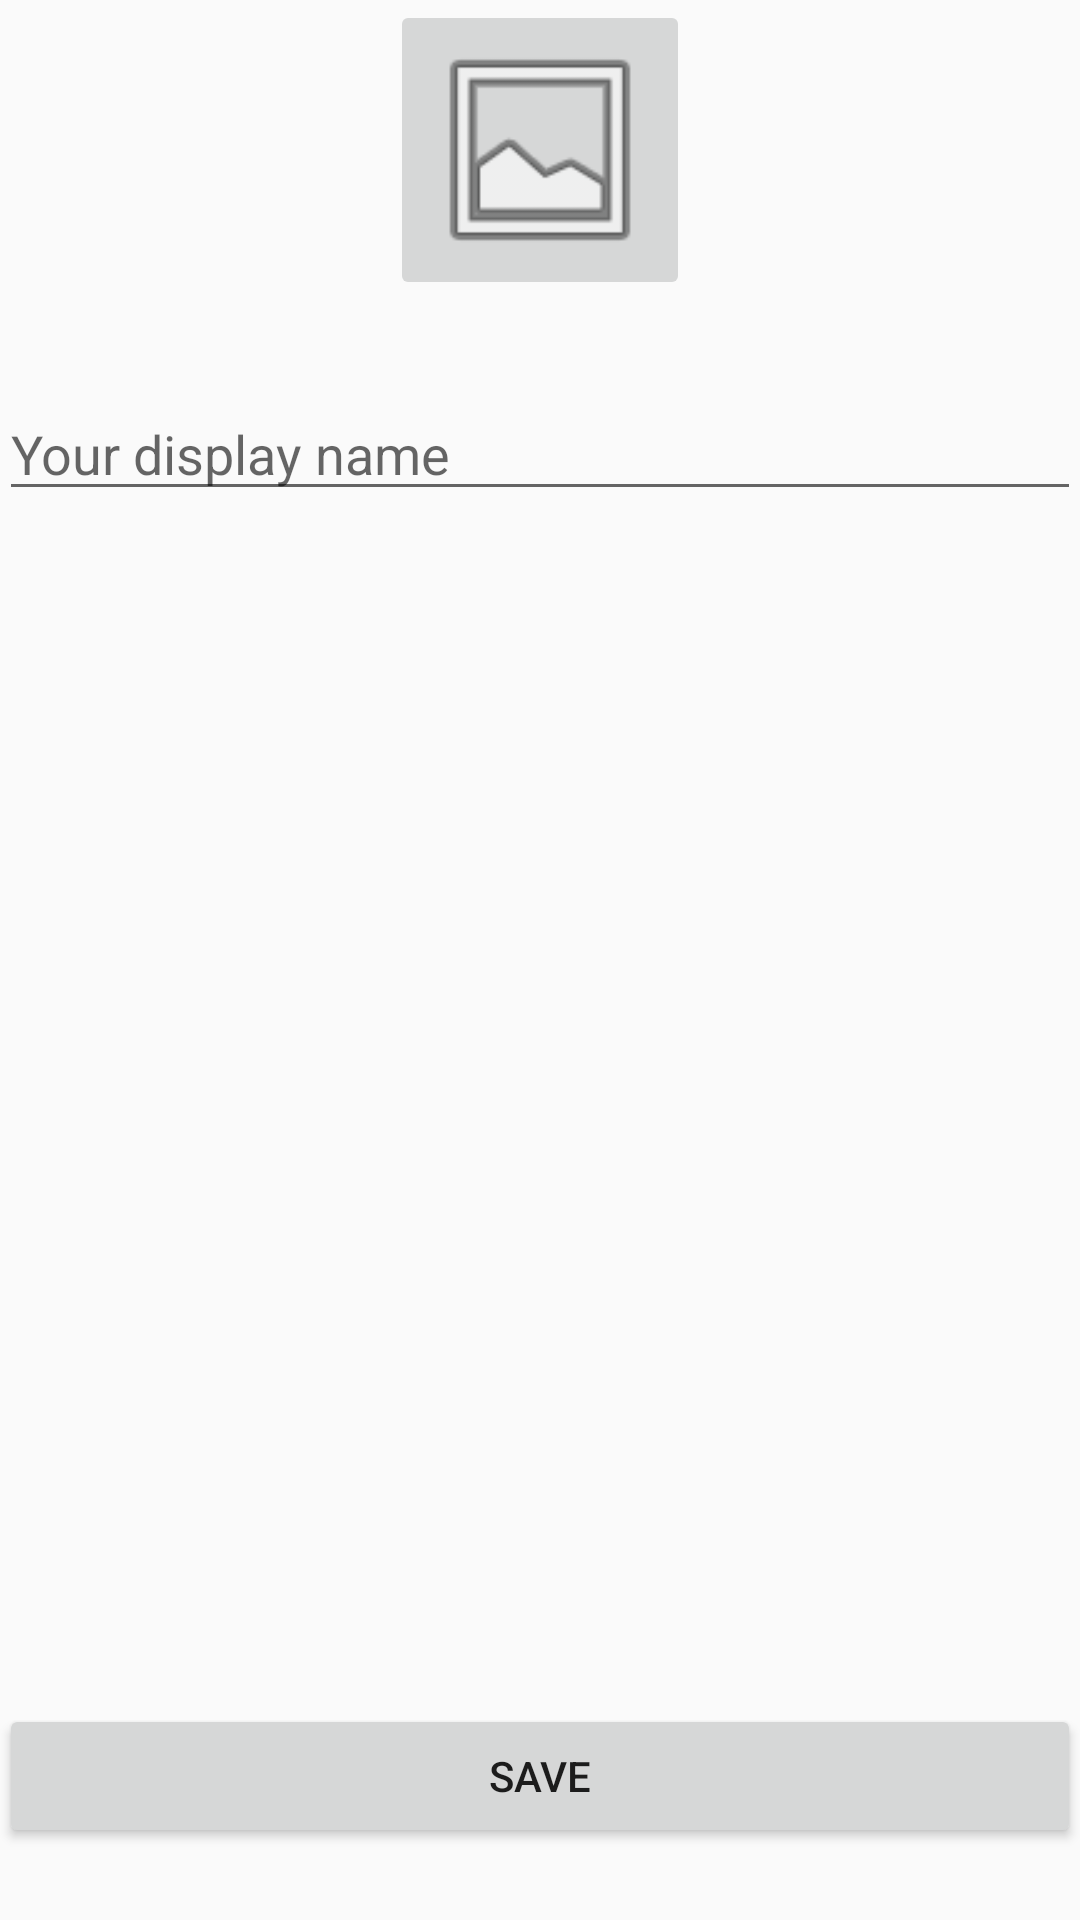

Named icons in this screenshot (1080 × 1920) and their bounding boxes, (x1=x1, y1=y1, x2=x2, y2=y2):
gallery: (x1=402, y1=18, x2=678, y2=282)
